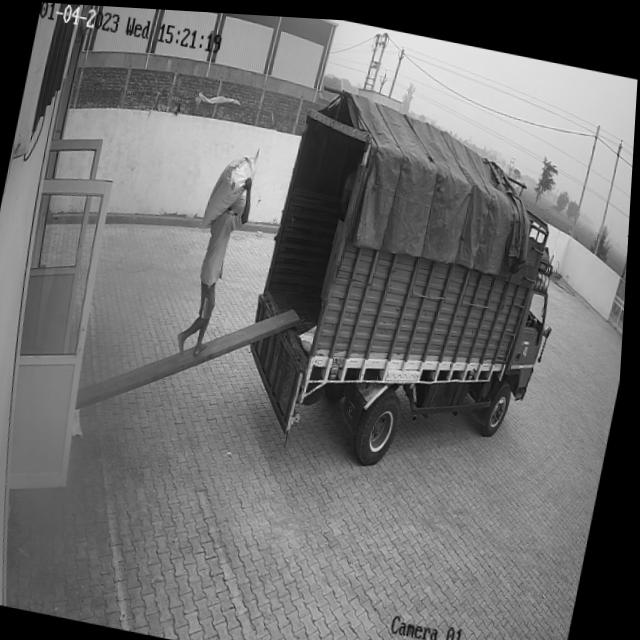sack: (203, 138, 262, 234)
